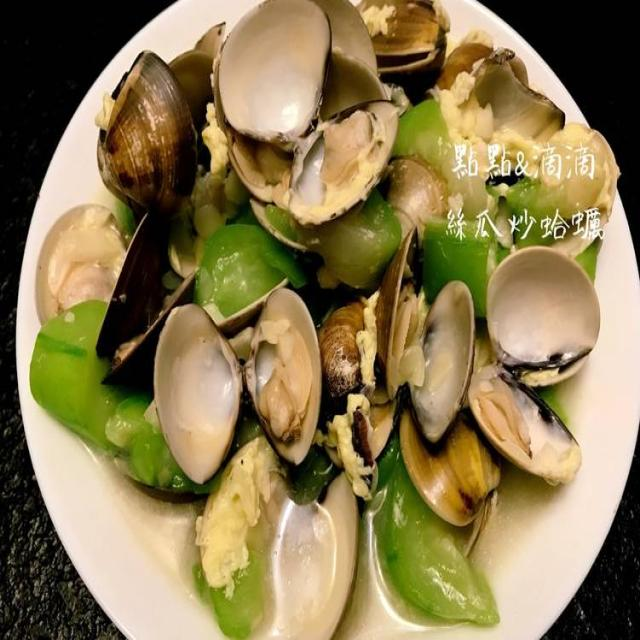Wet: (97, 0, 549, 615)
